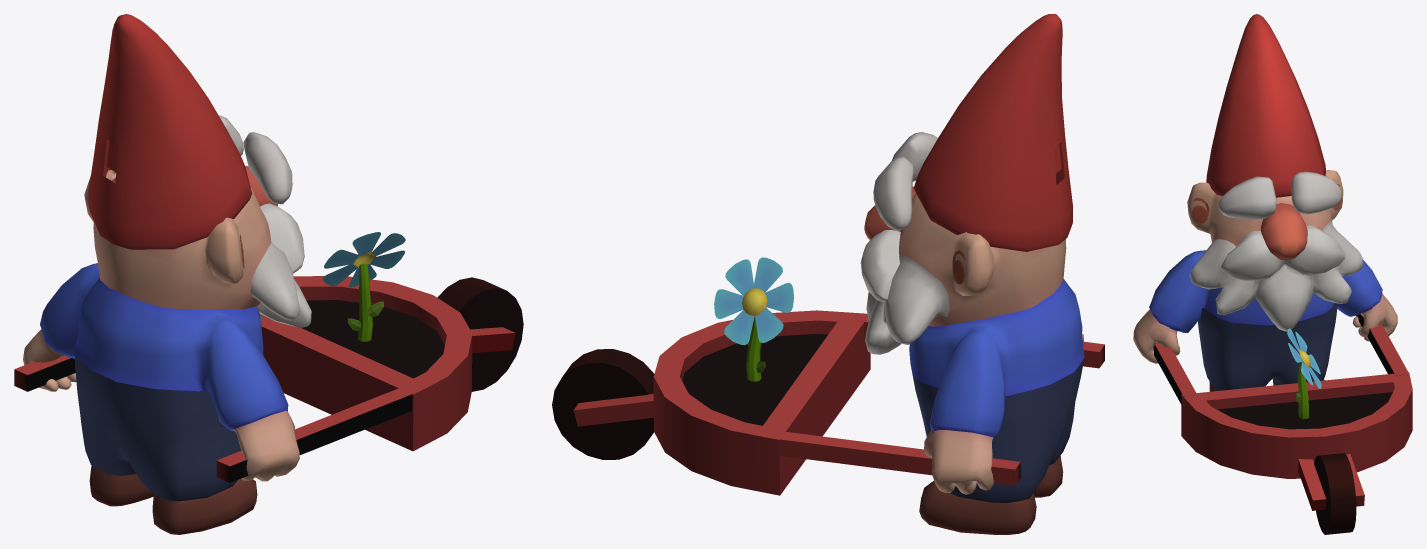
Rendered from DecoGnome2.fbx.
The picture shows the model from 3 angles, left to right: view 1: azimuth 30°, elevation 25°; view 2: azimuth 150°, elevation 25°; view 3: azimuth 270°, elevation 25°; orthographic projection. The views are drawn at different scales.
Visible parts, largest first — view 1: gnomemale; view 2: gnomemale; view 3: gnomemale.
Part boxes in pixels (<box>): gnomemale: <box>14,14,523,534</box>; gnomemale: <box>552,14,1104,534</box>; gnomemale: <box>1133,14,1412,534</box>.
Size of what is drawn, in the model's own units: 0.6882 by 0.6868 by 0.4662.
